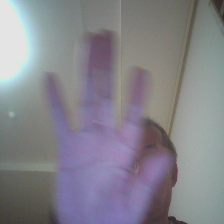hand: (41, 29, 177, 222)
